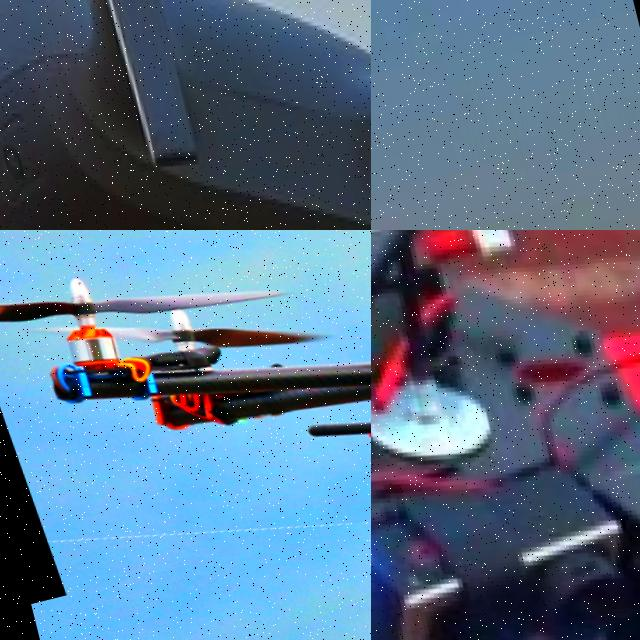drone: (0, 230, 371, 603), (371, 230, 640, 640), (0, 0, 371, 230)
